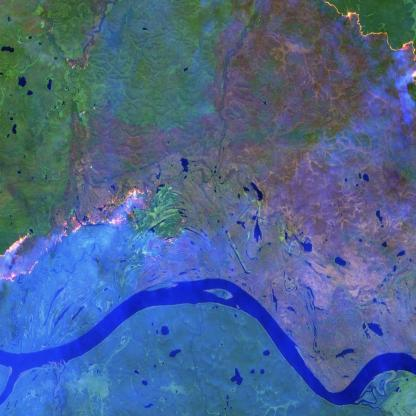fire: (0, 185, 147, 285), (319, 0, 416, 89)
